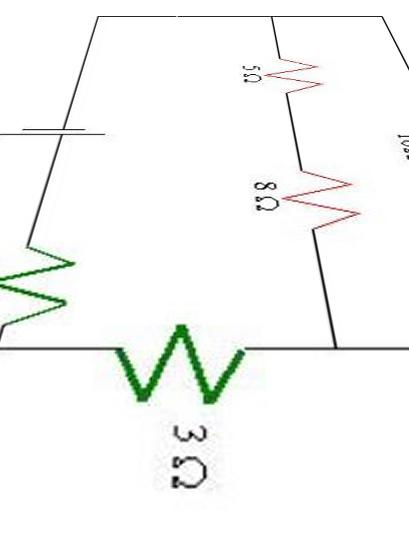resistor: (82, 314, 255, 407), (0, 228, 90, 344), (278, 149, 363, 258), (268, 35, 326, 109)
